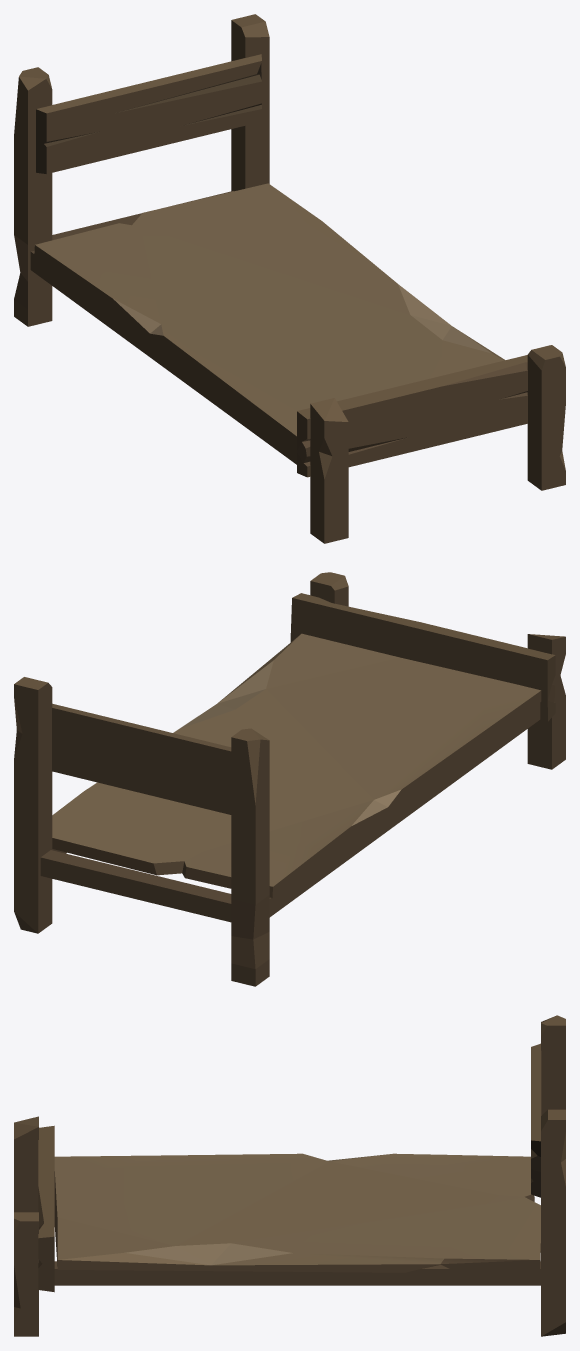
Rendered from SM_Prop_Bed_06.fbx.
The picture shows the model from 3 angles, top to bottom: view 1: azimuth 30°, elevation 25°; view 2: azimuth 150°, elevation 25°; view 3: azimuth 270°, elevation 25°; orthographic projection. The views are drawn at different scales.
Visible parts, largest first — view 1: SM_Prop_Bed_06; view 2: SM_Prop_Bed_06; view 3: SM_Prop_Bed_06.
Part boxes in pixels (x1=…): SM_Prop_Bed_06: x1=14, y1=14, x2=565, y2=543; SM_Prop_Bed_06: x1=14, y1=572, x2=565, y2=986; SM_Prop_Bed_06: x1=14, y1=1015, x2=565, y2=1336.
Bounding box in the file's own units: 1.06 × 0.9639 × 2.23.
1 material, 1 textured.
